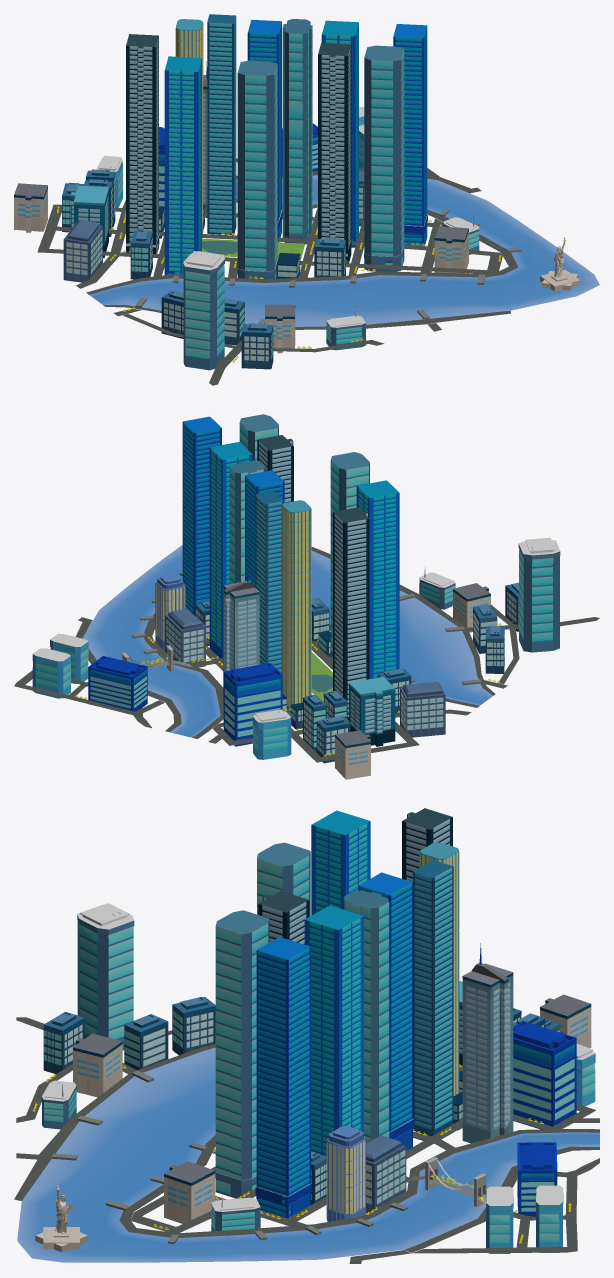
3 renders of one model, top to bottom at view 1: azimuth 30°, elevation 25°; view 2: azimuth 150°, elevation 25°; view 3: azimuth 270°, elevation 25°, orthographic. The views are drawn at different scales.
Visible parts, largest first — view 1: Cube.087, nycM, river.001, street.002, streetParis.002, buildingRoof.001, statue, Plane.077, docks; view 2: Cube.087, nycM, river.001, streetParis.002, Plane.077, street.002, docks; view 3: Cube.087, river.001, nycM, streetParis.002, street.002, statue, docks, brooklynBridge, buildingRoof.001.
Boxes of the visible parts, x1=… form: Cube.087: x1=14, y1=16, x2=479, y2=370; nycM: x1=126, y1=14, x2=427, y2=278; river.001: x1=86, y1=167, x2=599, y2=329; street.002: x1=119, y1=208, x2=502, y2=277; streetParis.002: x1=37, y1=158, x2=481, y2=385; buildingRoof.001: x1=126, y1=209, x2=427, y2=278; statue: x1=540, y1=237, x2=580, y2=291; Plane.077: x1=202, y1=238, x2=304, y2=259; docks: x1=135, y1=209, x2=521, y2=323; Cube.087: x1=32, y1=418, x2=560, y2=779; nycM: x1=183, y1=414, x2=399, y2=716; river.001: x1=79, y1=545, x2=495, y2=738; streetParis.002: x1=14, y1=604, x2=599, y2=762; Plane.077: x1=311, y1=652, x2=332, y2=702; street.002: x1=190, y1=639, x2=332, y2=731; docks: x1=132, y1=572, x2=481, y2=685; Cube.087: x1=41, y1=821, x2=595, y2=1253; river.001: x1=14, y1=1044, x2=599, y2=1262; nycM: x1=215, y1=808, x2=459, y2=1218; streetParis.002: x1=16, y1=1017, x2=599, y2=1263; street.002: x1=131, y1=1114, x2=559, y2=1233; statue: x1=35, y1=1185, x2=87, y2=1252; docks: x1=52, y1=1070, x2=407, y2=1244; brooklynBridge: x1=406, y1=1157, x2=486, y2=1206; buildingRoof.001: x1=215, y1=1119, x2=413, y2=1217.
Size of the model in its own units: 1 by 0.503 by 1.
